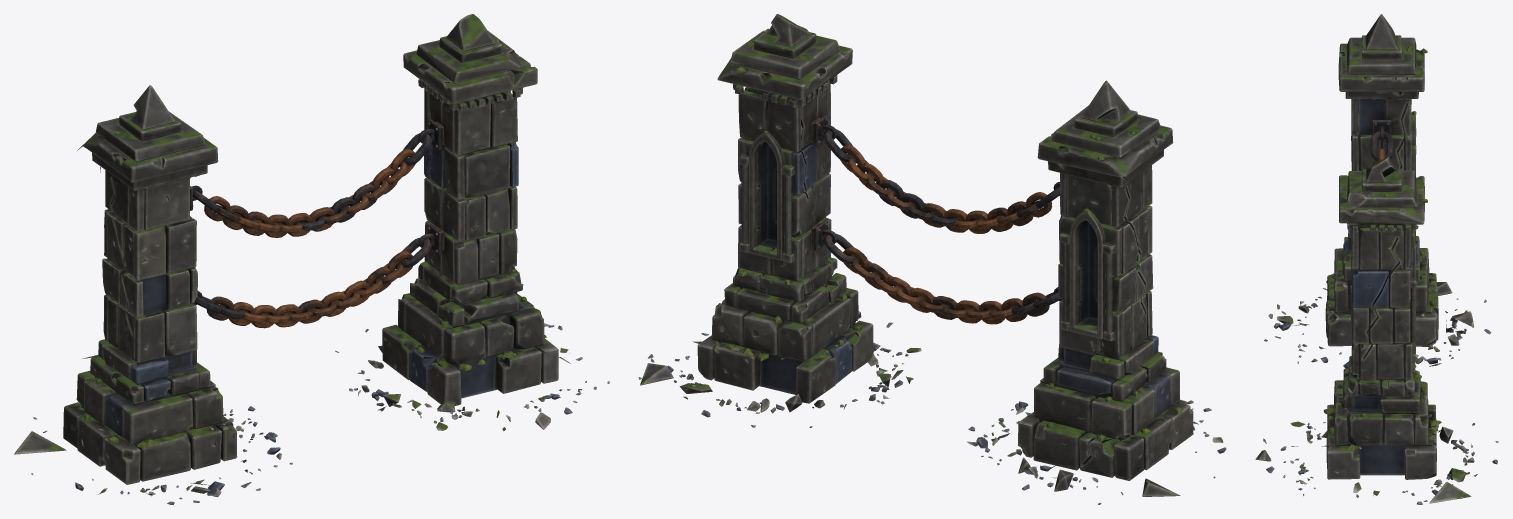
The model's file is SM_Cripta_ColunaCorrente.glb.
3 renders of one model, left to right at view 1: azimuth 30°, elevation 25°; view 2: azimuth 150°, elevation 25°; view 3: azimuth 270°, elevation 25°, orthographic. The views are drawn at different scales.
Visible parts, largest first — view 1: SM_Cripta_ColunaCorrente; view 2: SM_Cripta_ColunaCorrente; view 3: SM_Cripta_ColunaCorrente.
Part boxes in pixels (x1,y1,x2,y2): SM_Cripta_ColunaCorrente: (14, 14, 609, 504); SM_Cripta_ColunaCorrente: (638, 14, 1226, 504); SM_Cripta_ColunaCorrente: (1255, 14, 1498, 504).
Size of the model in its own units: 5.47 by 3.53 by 2.48.
Materials: 1 (1 with a texture image).
